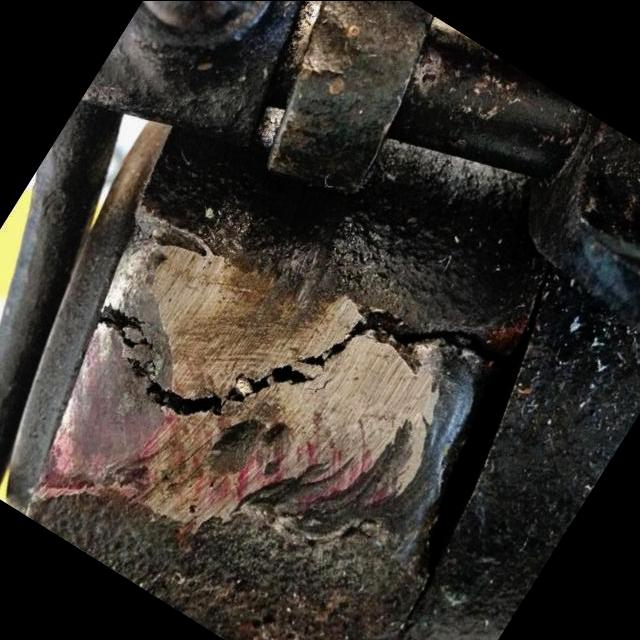defect: (78, 299, 514, 431)
